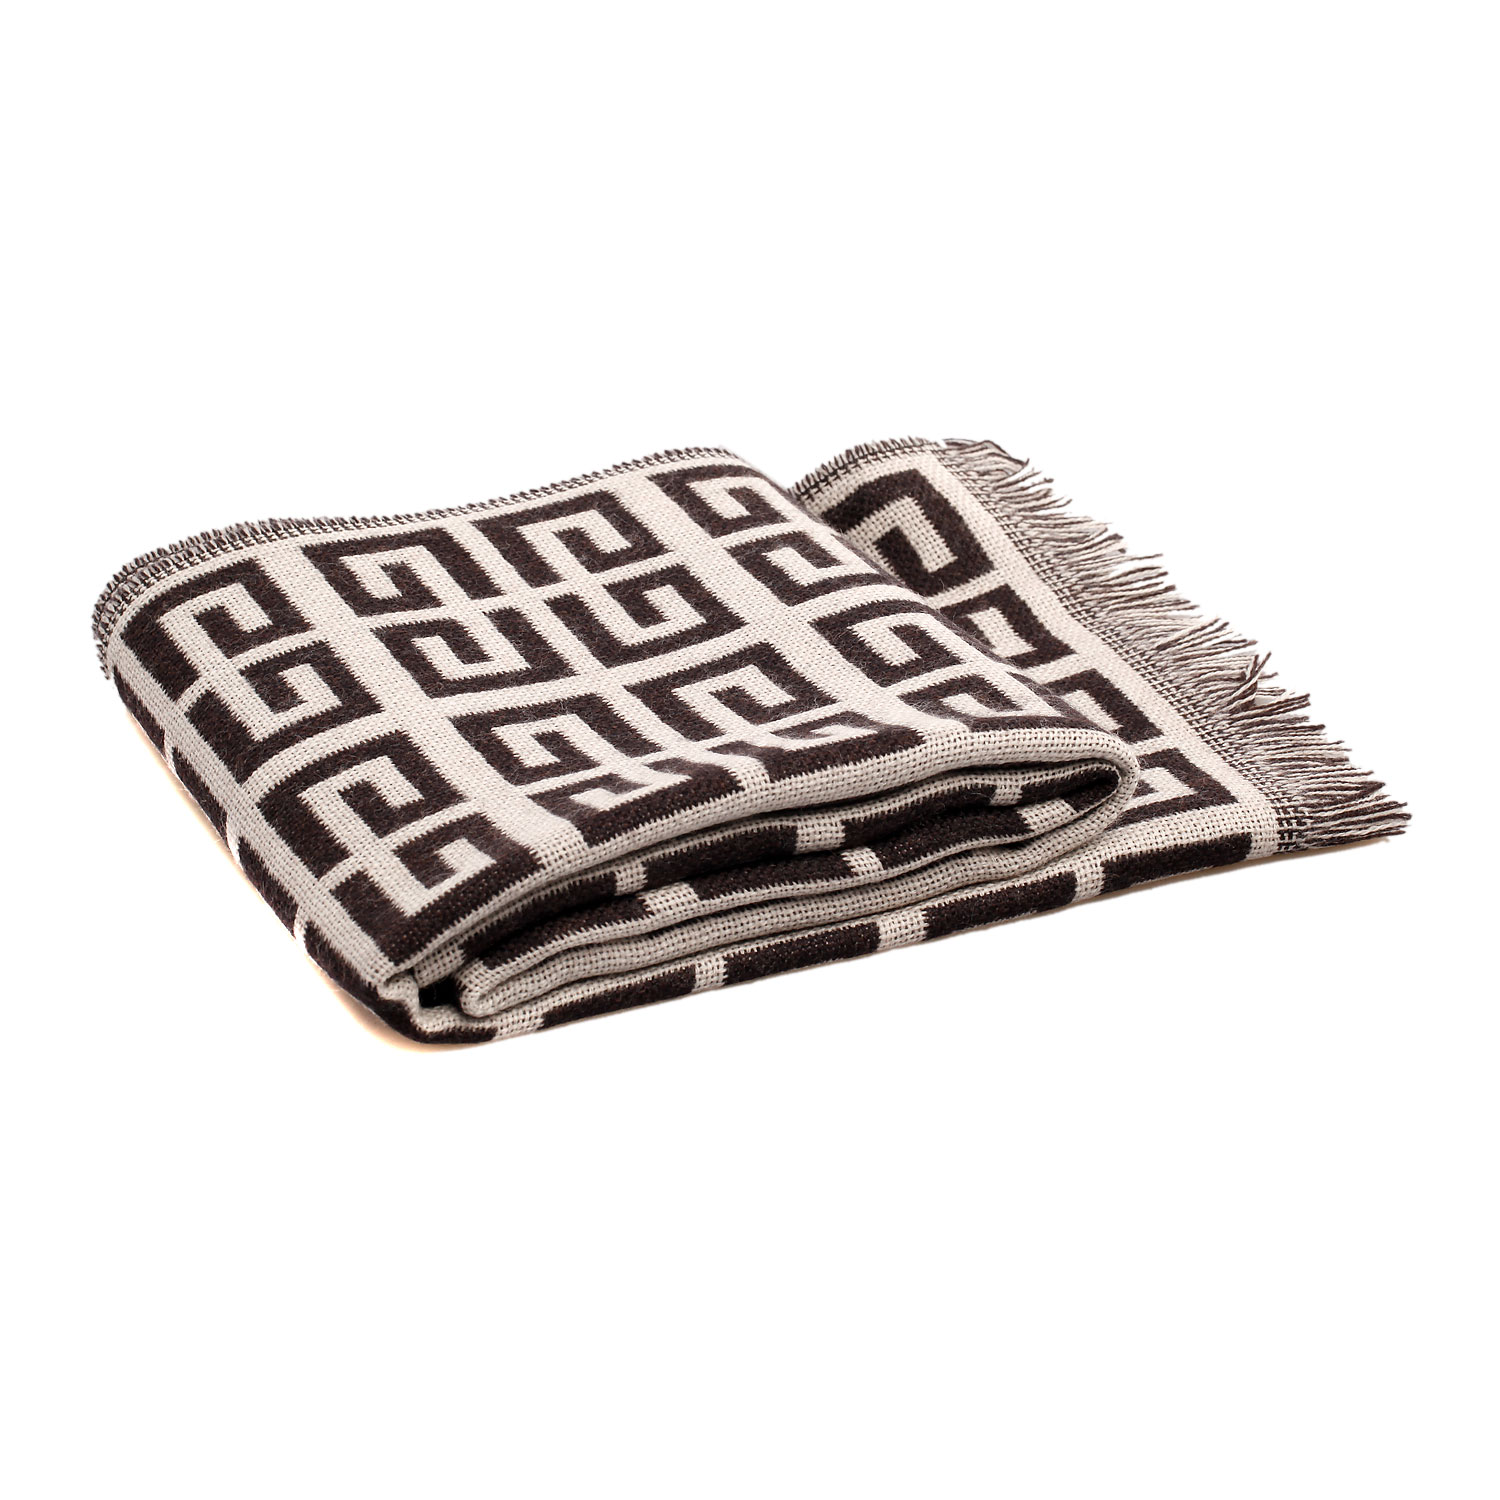flexible: (76, 445, 1418, 1058)
